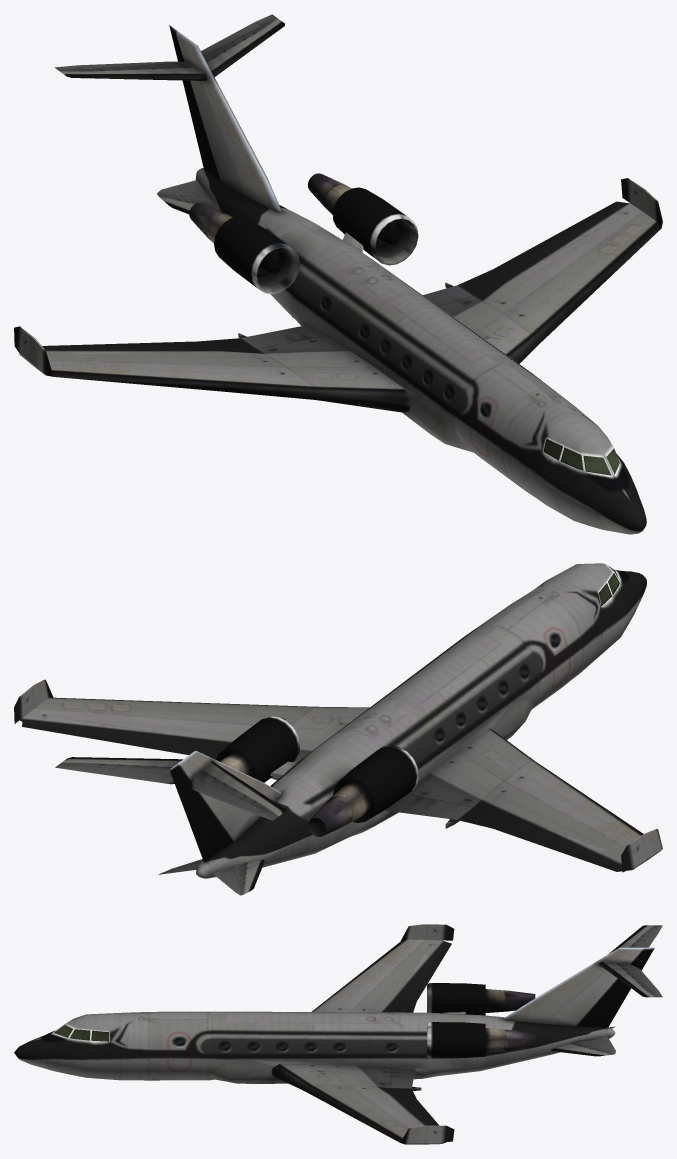
File: Boeing727Five.obj
3 views of the same model, one above another, from view 1: azimuth 30°, elevation 25°; view 2: azimuth 150°, elevation 25°; view 3: azimuth 270°, elevation 25° (orthographic). The views are drawn at different scales.
Parts seen in each view (by area): view 1: LOD0, Glass; view 2: LOD0; view 3: LOD0, Glass.
Boxes of the visible parts, x1,y1,x2,y2 form: LOD0: (14, 14, 662, 534); Glass: (544, 439, 619, 474); LOD0: (14, 563, 662, 895); LOD0: (14, 924, 662, 1144); Glass: (54, 1025, 108, 1041).
Size of the model in its own units: 20.78 by 6.19 by 27.82.
Materials: 3 (3 with a texture image).
